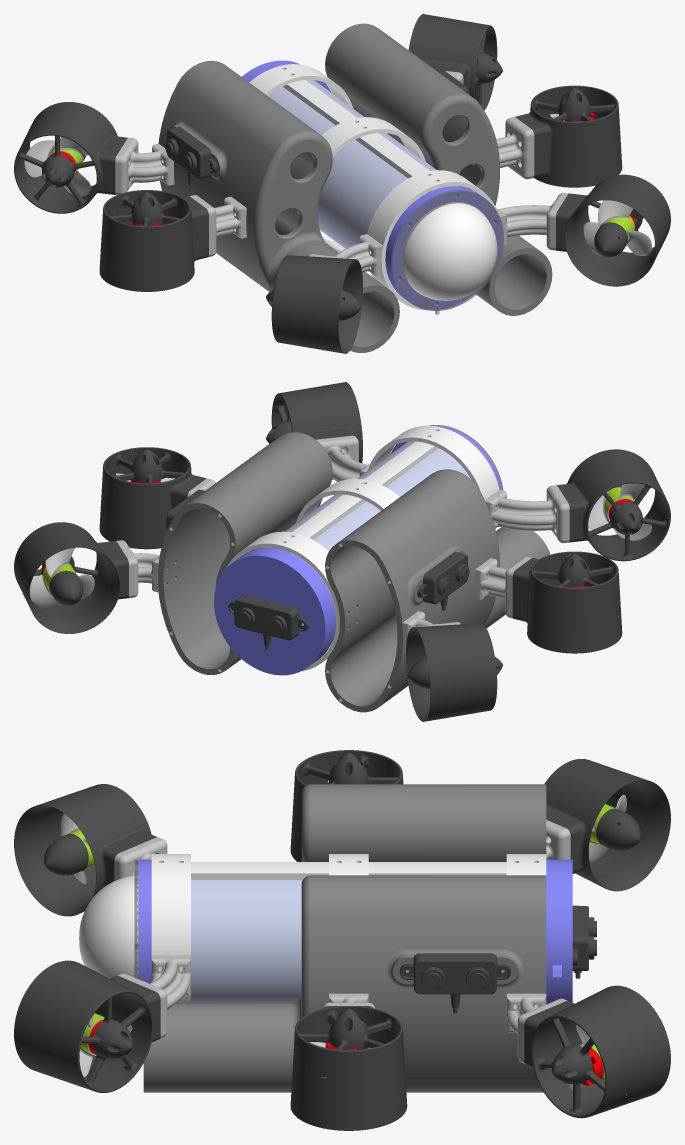
The model's file is submarine.glb.
The picture shows the model from 3 angles, top to bottom: view 1: azimuth 30°, elevation 25°; view 2: azimuth 150°, elevation 25°; view 3: azimuth 270°, elevation 25°; orthographic projection. The views are drawn at different scales.
Parts seen in each view (by area): view 1: Part 17, Part 15, Part 14, Part 18, Part 13, Part 19, Part 20_clonedChild, Part 22, Part 20; view 2: Part 17, Part 15, Part 19, Part 14, Part 18, Part 13, Part 22; view 3: Part 17, Part 15, Part 14, Part 13, Part 18, Part 19, Part 22, Part 23.
Part boxes in pixels (x1,y1,x2,y2): Part 17: (14, 14, 670, 353); Part 15: (158, 23, 552, 352); Part 14: (249, 64, 498, 310); Part 18: (115, 71, 568, 276); Part 13: (268, 80, 457, 280); Part 19: (242, 60, 502, 309); Part 20_clonedChild: (391, 190, 503, 310); Part 22: (24, 114, 651, 255); Part 20: (393, 191, 503, 310); Part 17: (14, 382, 670, 721); Part 15: (158, 432, 550, 712); Part 19: (214, 426, 501, 675); Part 14: (226, 425, 499, 671); Part 18: (116, 435, 569, 652); Part 13: (263, 441, 470, 642); Part 22: (23, 473, 651, 607); Part 17: (14, 750, 670, 1130); Part 15: (143, 784, 546, 1092); Part 14: (79, 854, 546, 1003); Part 13: (191, 880, 302, 1003); Part 18: (114, 820, 570, 1064); Part 19: (138, 859, 572, 1004); Part 22: (60, 780, 626, 1096); Part 23: (69, 804, 615, 1080).
Bounding box in the file's own units: 0.5487 × 0.1751 × 0.4993.
Materials: 12 (1 with a texture image).
